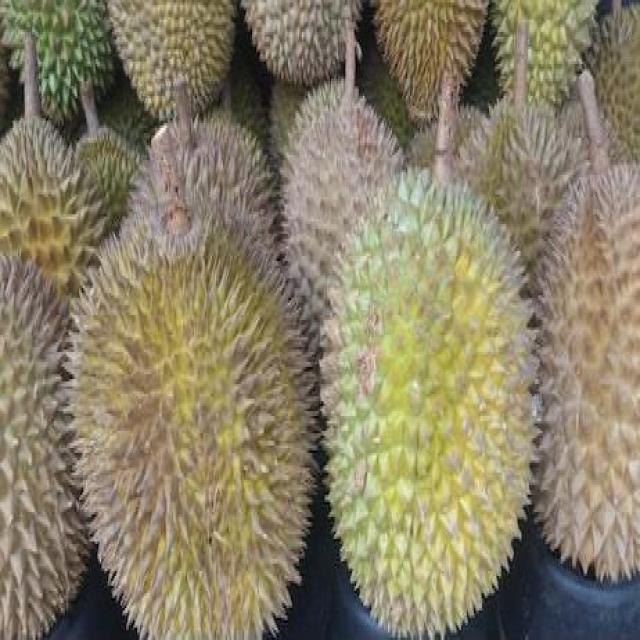mature: (71, 222, 309, 636)
